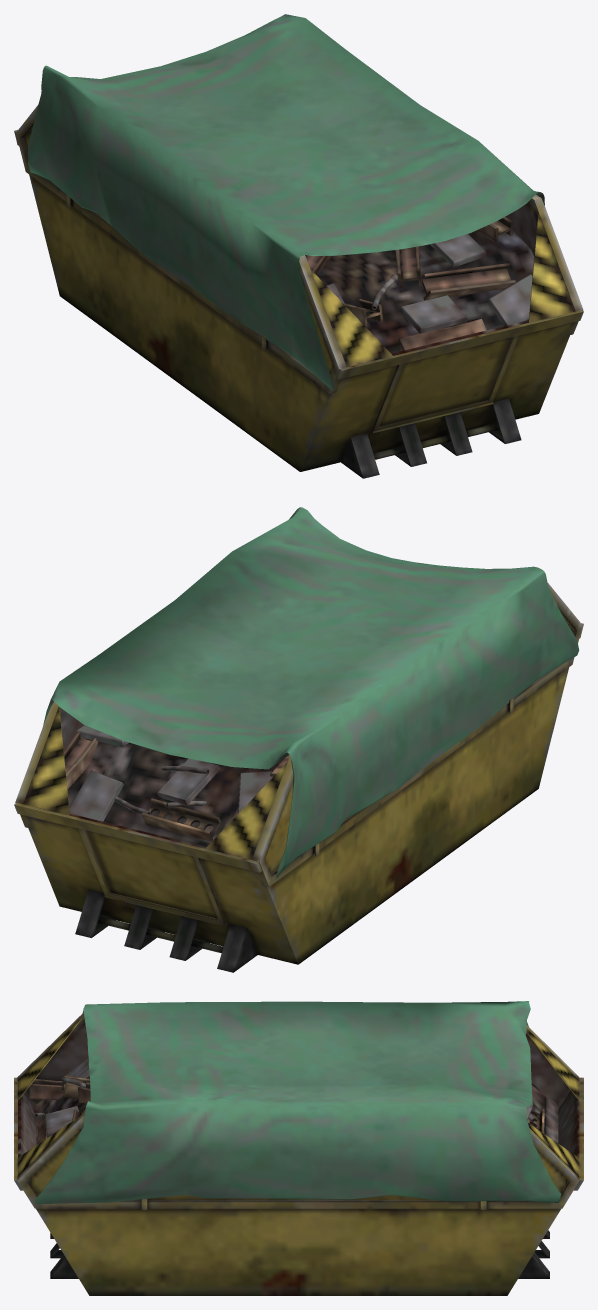
File: sm22_108_dumpster01a.fbx
3 renders of one model, top to bottom at view 1: azimuth 30°, elevation 25°; view 2: azimuth 150°, elevation 25°; view 3: azimuth 270°, elevation 25°, orthographic. The views are drawn at different scales.
Visible parts, largest first — view 1: LOD_1_Group_0_Sub_1__sm22_108_dumpster01A_A_Mat; view 2: LOD_1_Group_0_Sub_1__sm22_108_dumpster01A_A_Mat; view 3: LOD_1_Group_0_Sub_1__sm22_108_dumpster01A_A_Mat.
Part boxes in pixels (bbox=[...]): LOD_1_Group_0_Sub_1__sm22_108_dumpster01A_A_Mat: bbox=[14, 14, 583, 478]; LOD_1_Group_0_Sub_1__sm22_108_dumpster01A_A_Mat: bbox=[14, 507, 583, 972]; LOD_1_Group_0_Sub_1__sm22_108_dumpster01A_A_Mat: bbox=[14, 1001, 583, 1295].
Bounding box in the file's own units: 2.09 × 1.71 × 4.52.
